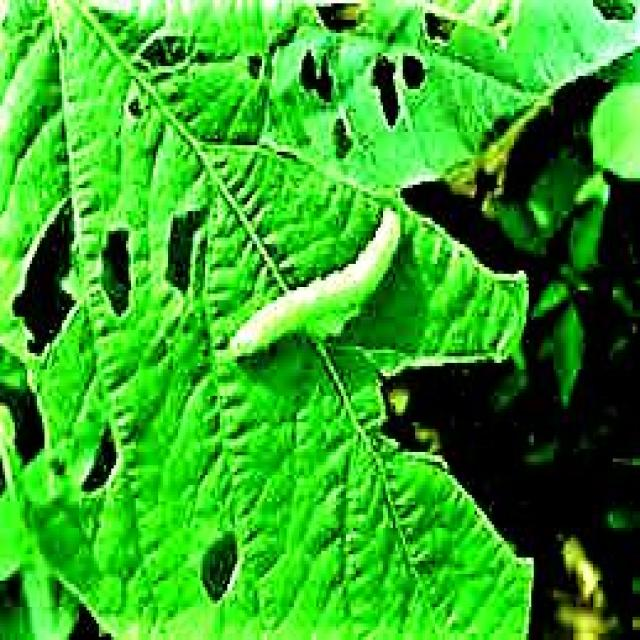armyworm: (225, 210, 402, 371)
